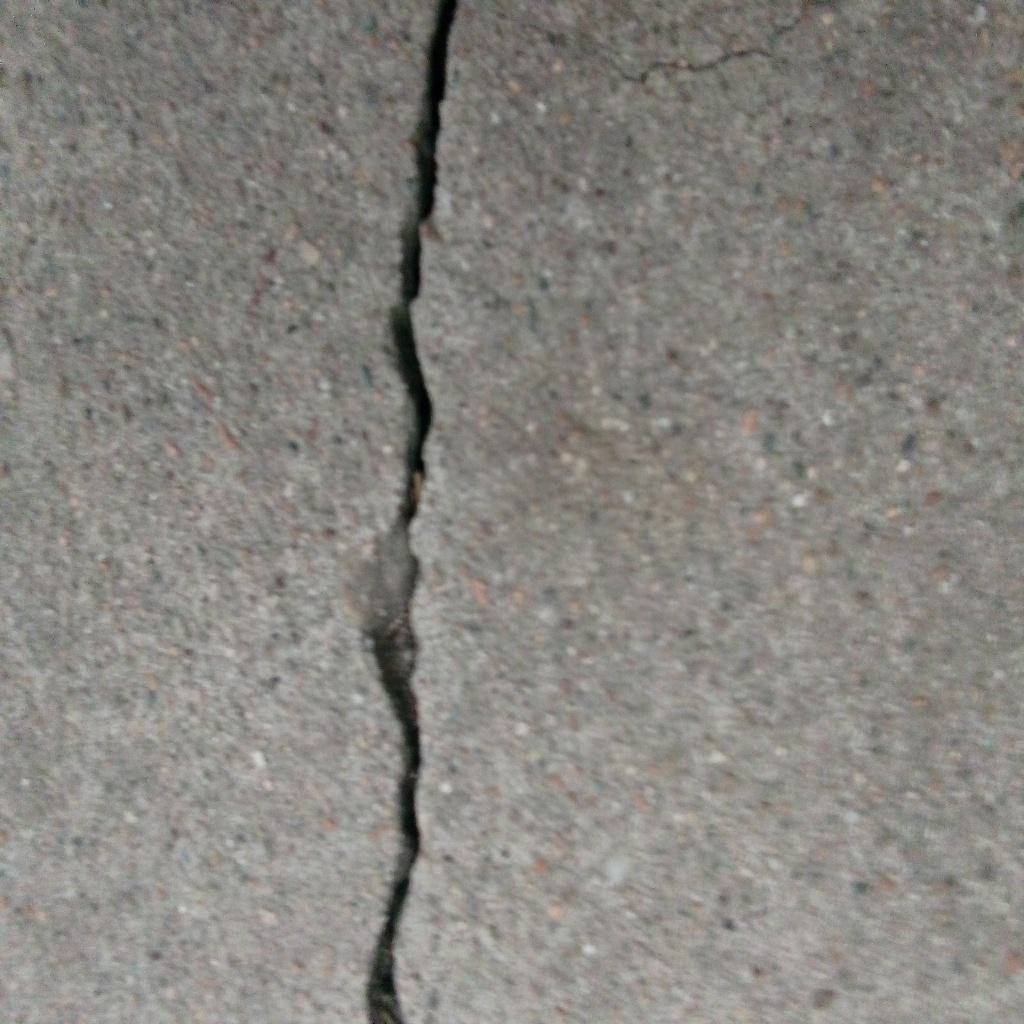Crack: (364, 1, 456, 1024)
